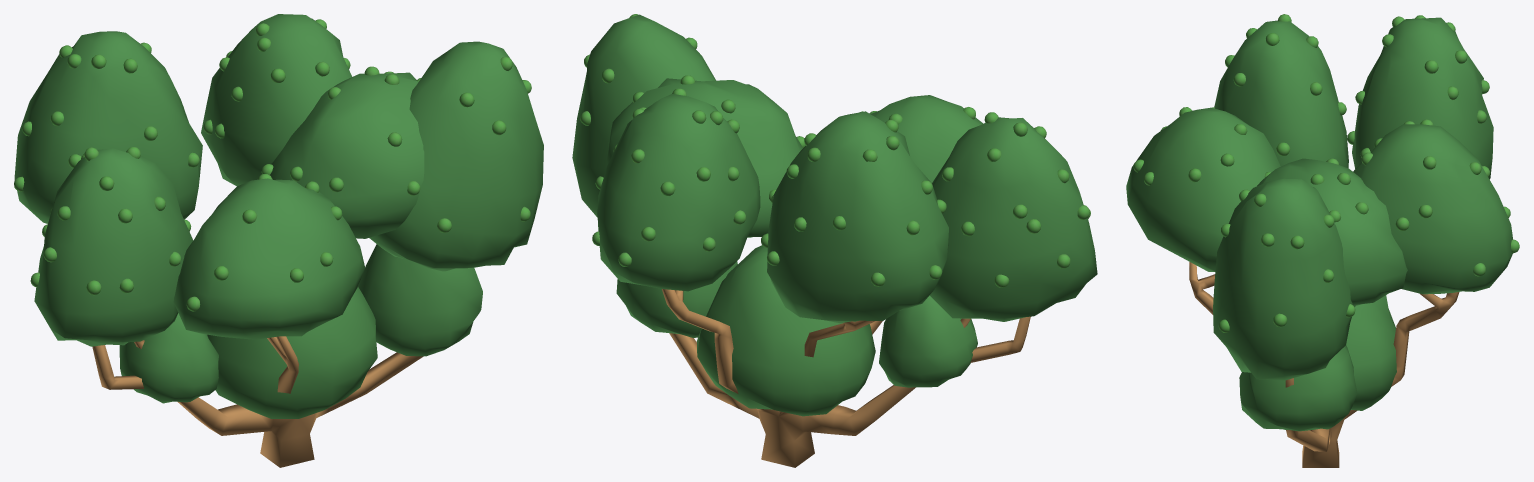
File: tree_04.gltf
The picture shows the model from 3 angles, left to right: view 1: azimuth 30°, elevation 25°; view 2: azimuth 150°, elevation 25°; view 3: azimuth 270°, elevation 25°; orthographic projection. The views are drawn at different scales.
Parts seen in each view (by area): view 1: tree_04; view 2: tree_04; view 3: tree_04.
Boxes of the visible parts, x1=… form: tree_04: x1=14, y1=14, x2=543, y2=467; tree_04: x1=572, y1=14, x2=1097, y2=467; tree_04: x1=1126, y1=14, x2=1519, y2=467.
Bounding box in the file's own units: 3.94 × 3.08 × 2.86.
Materials: 1 (1 with a texture image).
